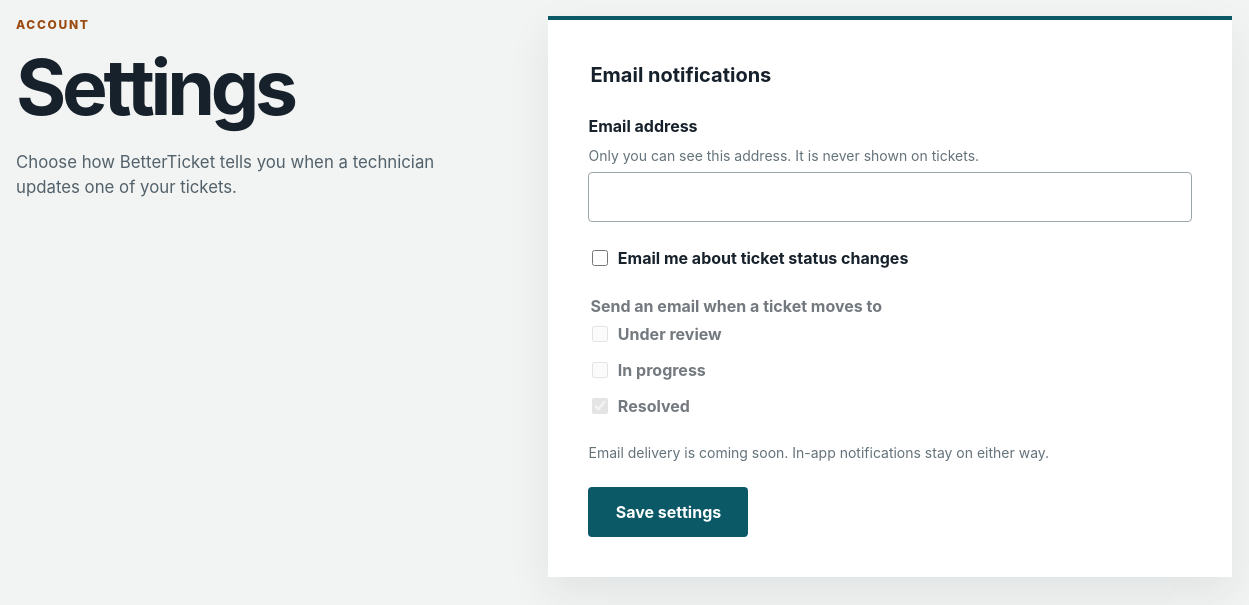
it: SettingsPage › disables status choices while email updates are off
Expected: the element "Send an email when a ticket moves to" is disabled, x1=590 y1=296 x2=882 y2=416
Step 1. Click the checkbox labelled "Email me about ticket status changes" → [600, 258], box x1=592 y1=250 x2=608 y2=266
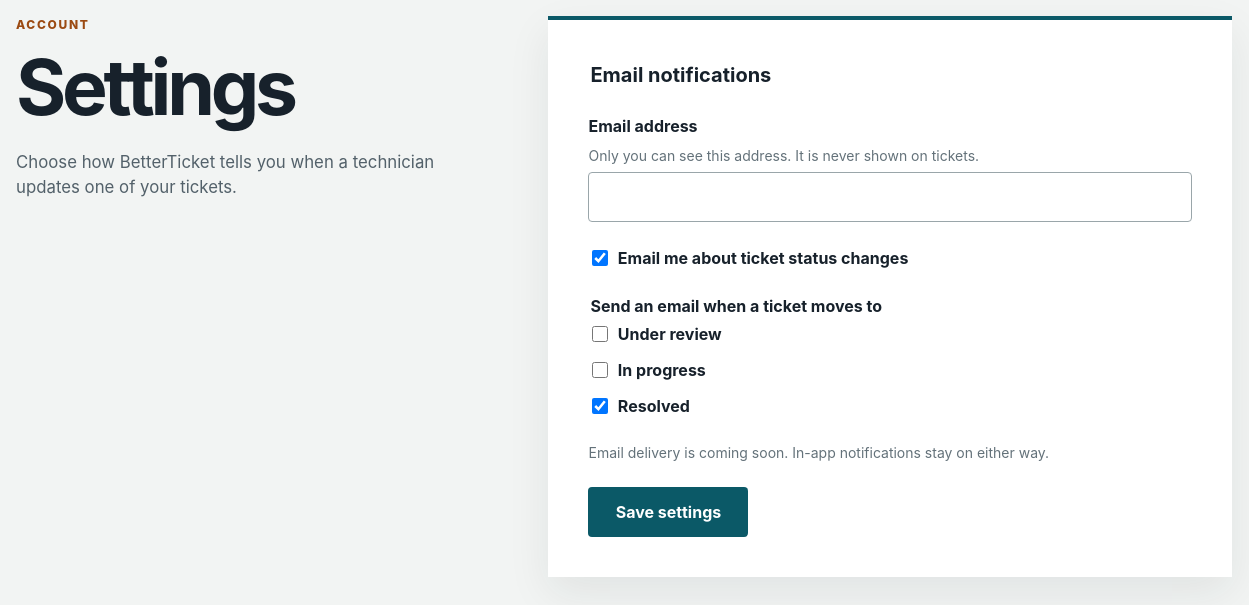
Expected: the element "Send an email when a ticket moves to" is enabled, x1=590 y1=296 x2=882 y2=416
